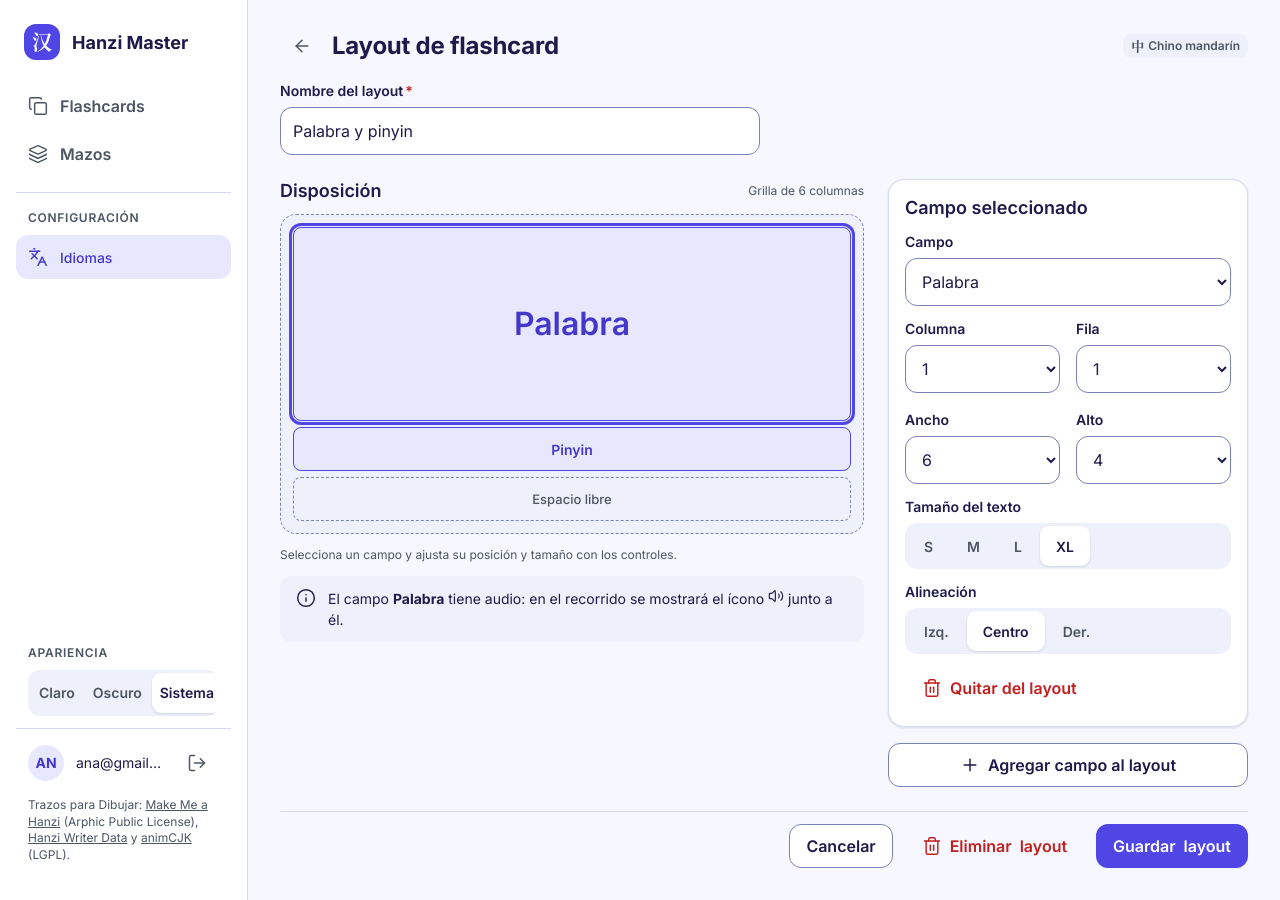
Test: I04 · Editor de layout › un cambio válido limpia el error anterior
The width and height of the screenshot is (1280, 900).
Expected: the field labelled "Nombre del layout*" is shown, [280,107,760,155]
Step 1. Click the button with aria-label "Pinyin," → (572, 449), box [293,427,851,471]
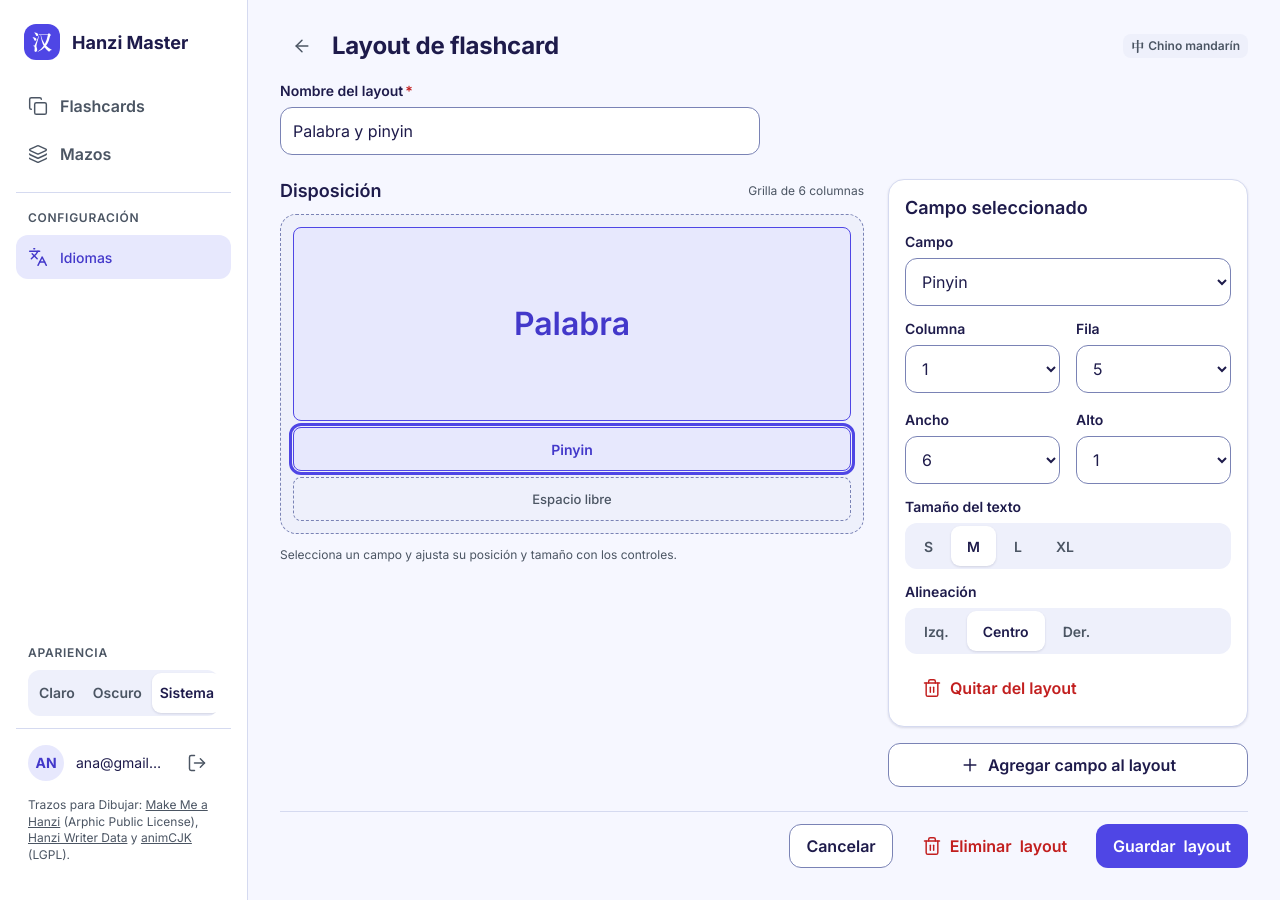
Step 2. Select "2" in the dropdown labelled "Fila" → (1154, 369), box [1076,345,1231,393]
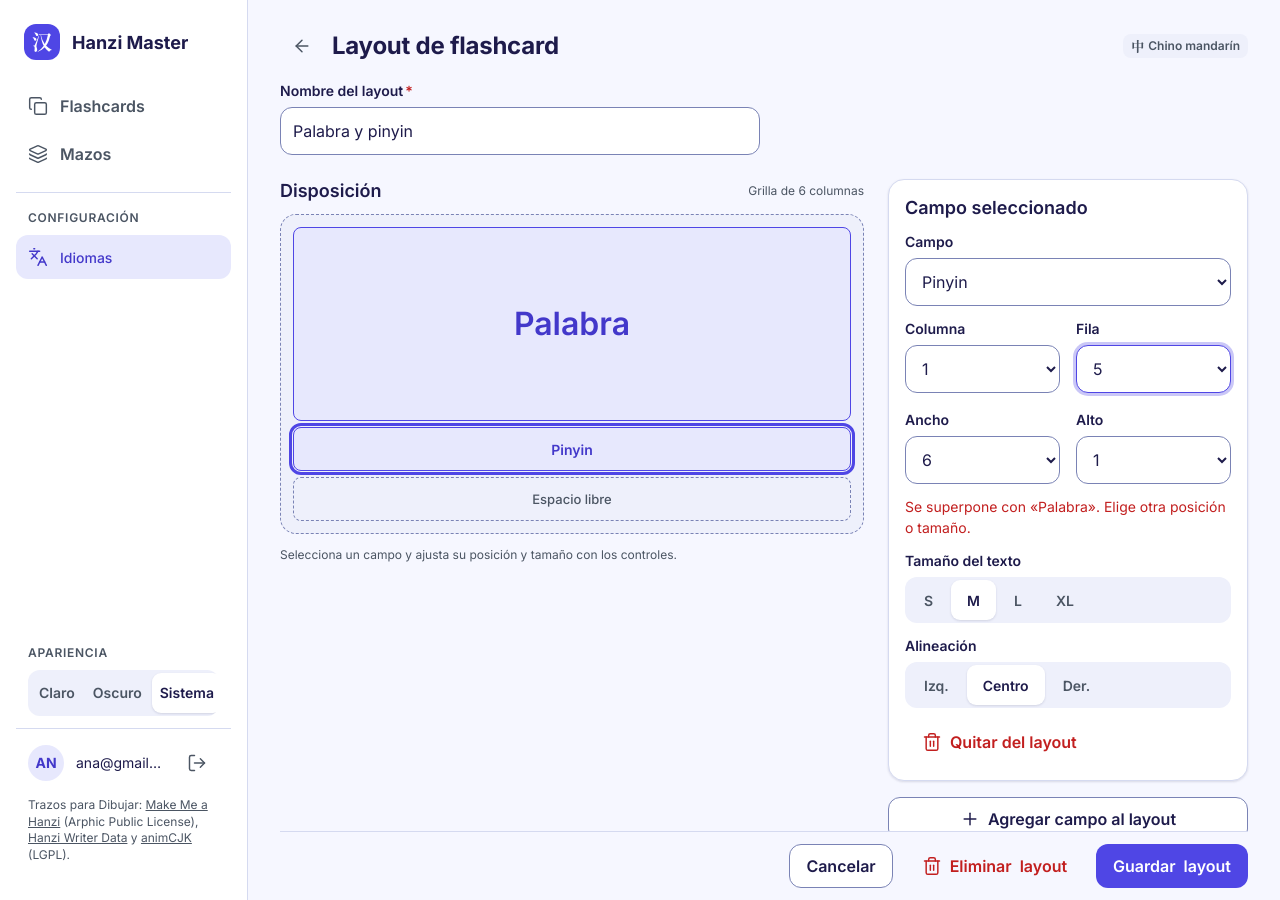
Now the message "Se superpone con «Palabra». Elige otra posición o tamaño." is shown, box [905,496,1231,538]
Step 3. Select "6" in the dropdown labelled "Fila" → (1154, 369), box [1076,345,1231,393]
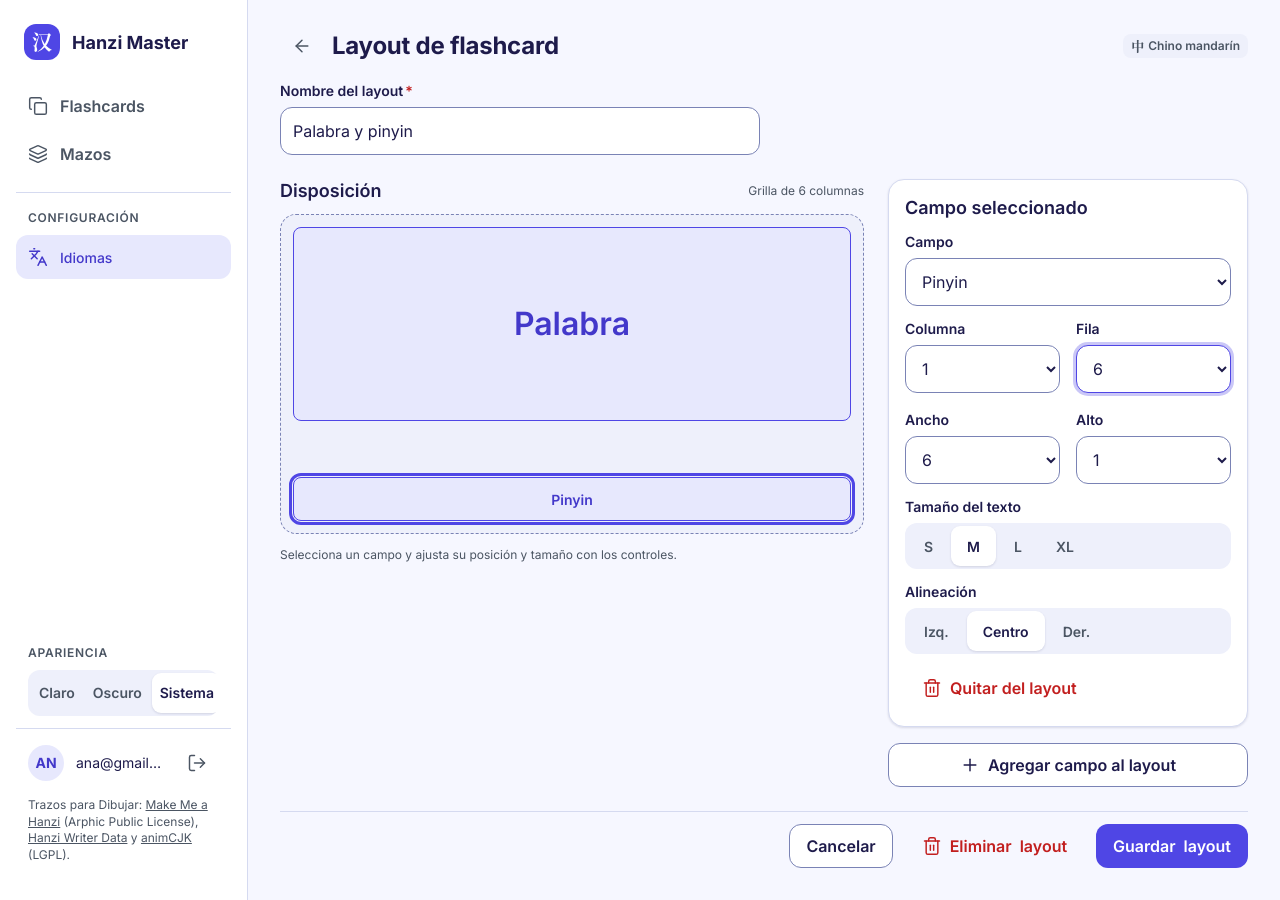
Now the message "Se superpone con «Palabra». Elige otra posición o tamaño." is gone
